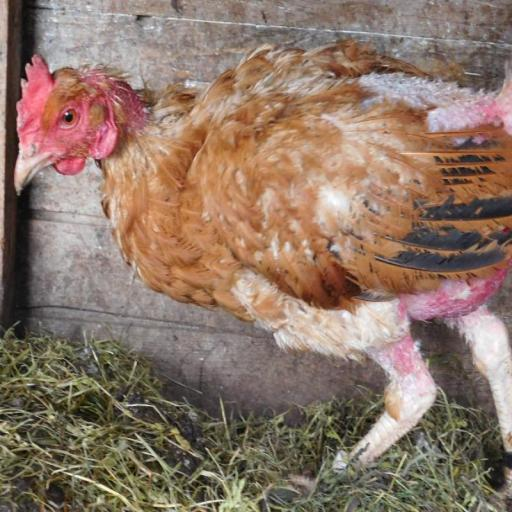disease: (13, 77, 52, 167)
